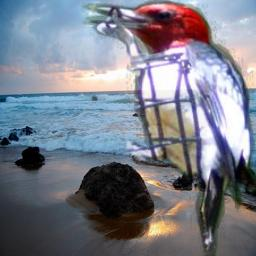Woodpecker: (81, 0, 256, 256)
